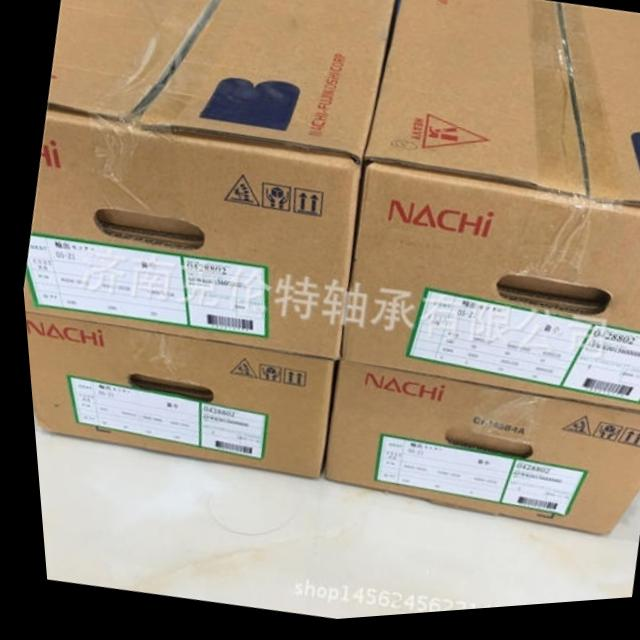box: (18, 0, 398, 364), (331, 0, 640, 424), (313, 366, 640, 546), (20, 311, 330, 485)
